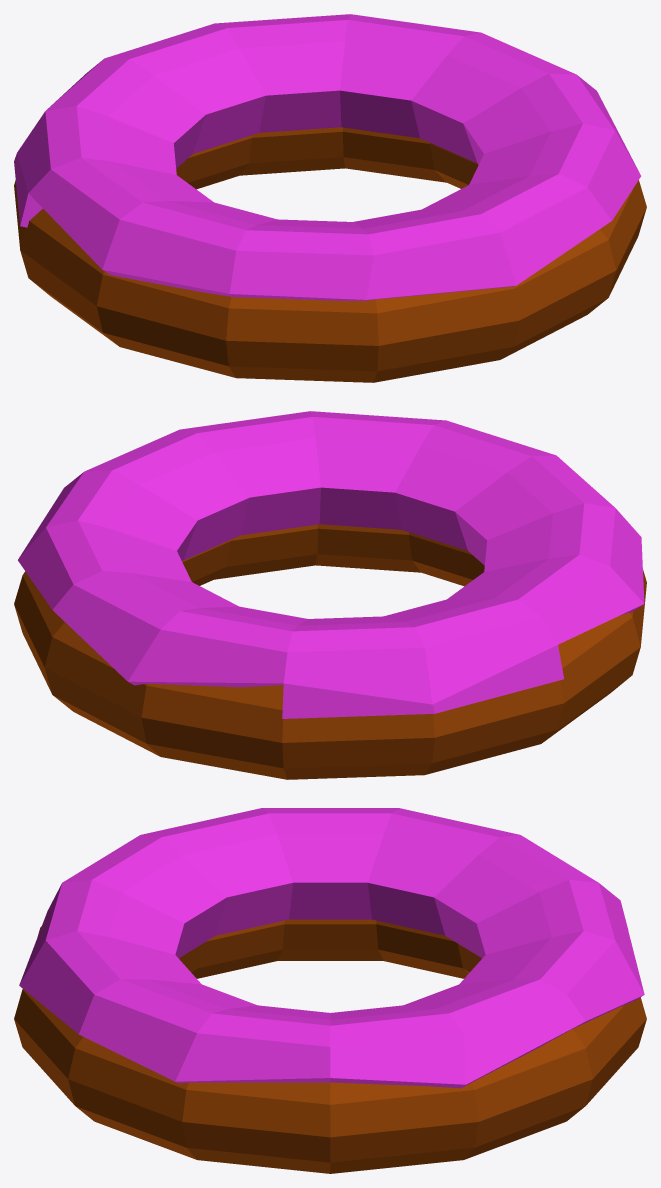
The model's file is donut.fbx.
3 renders of one model, top to bottom at view 1: azimuth 30°, elevation 25°; view 2: azimuth 150°, elevation 25°; view 3: azimuth 270°, elevation 25°, orthographic.
Visible parts, largest first — view 1: Torus; view 2: Torus; view 3: Torus.
Boxes of the visible parts, x1=… form: Torus: x1=14, y1=14, x2=646, y2=382; Torus: x1=14, y1=411, x2=646, y2=779; Torus: x1=14, y1=808, x2=646, y2=1173.
Bounding box in the file's own units: 246 × 61.62 × 248.
